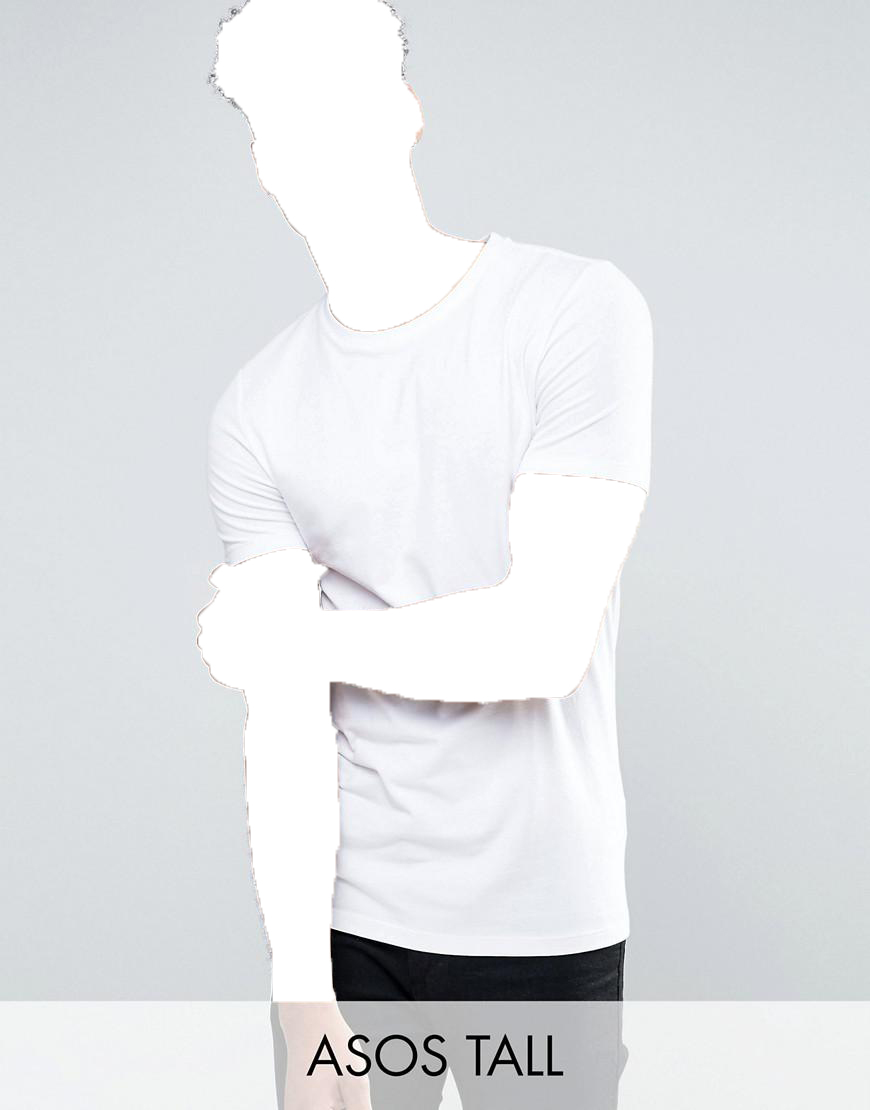teeshirt: (195, 235, 678, 961)
